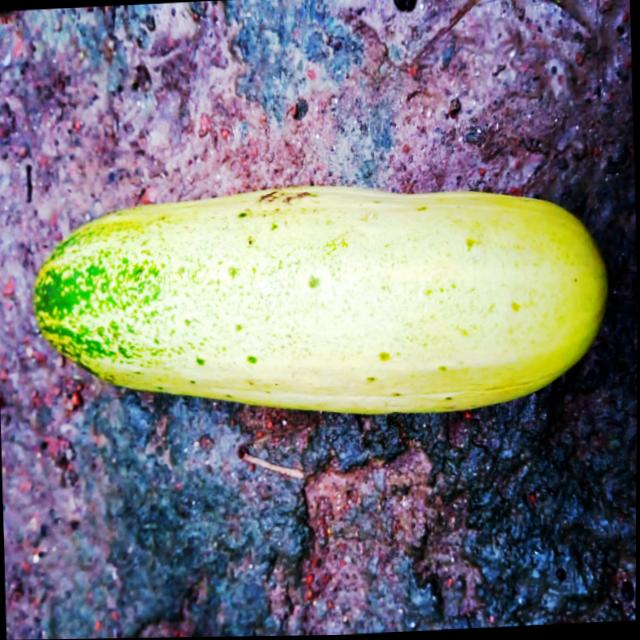Fresh-Cucumber: (24, 170, 616, 439)
